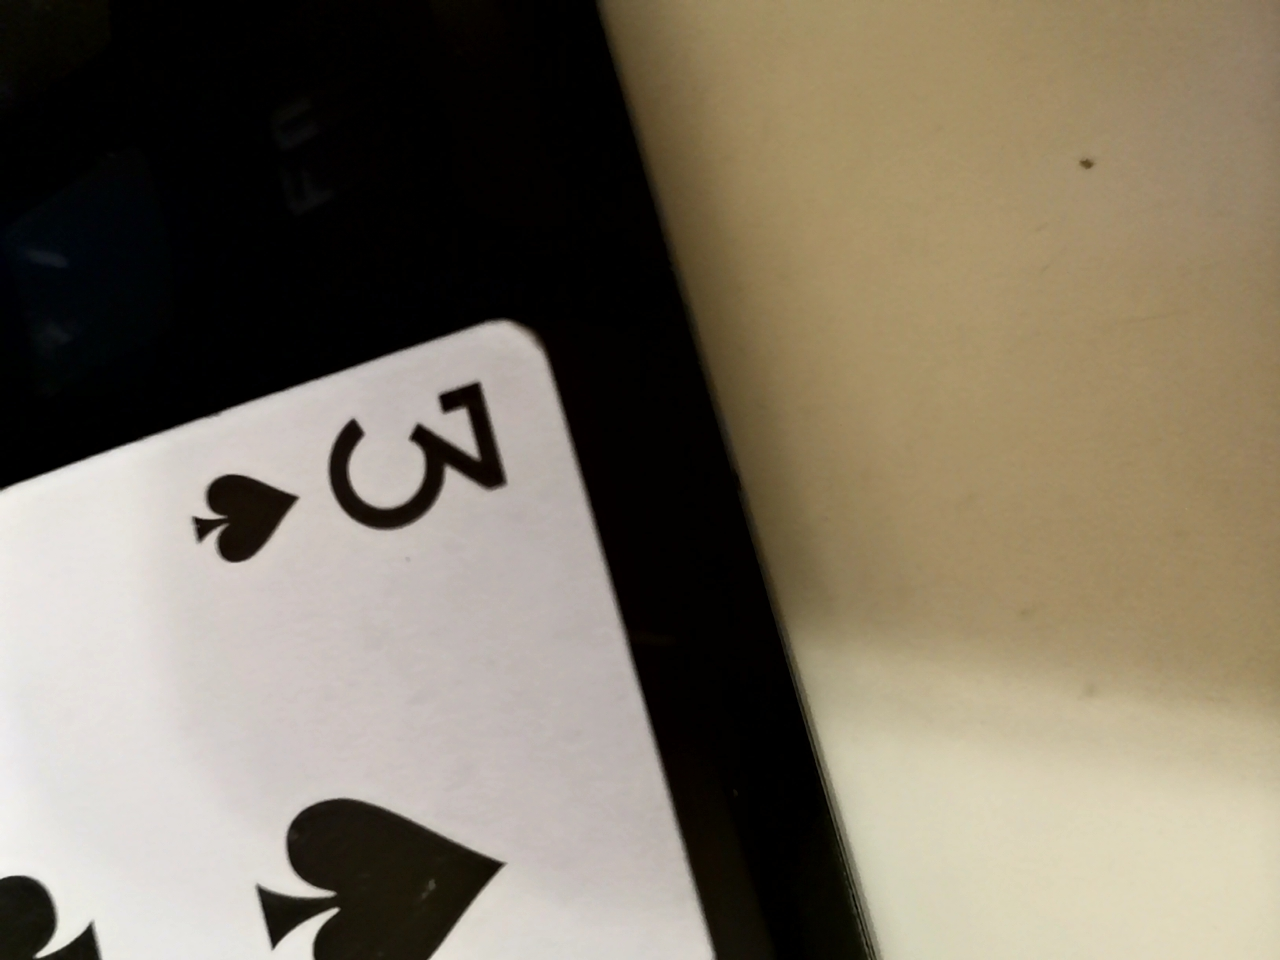ht 3: (9, 298, 785, 954)
